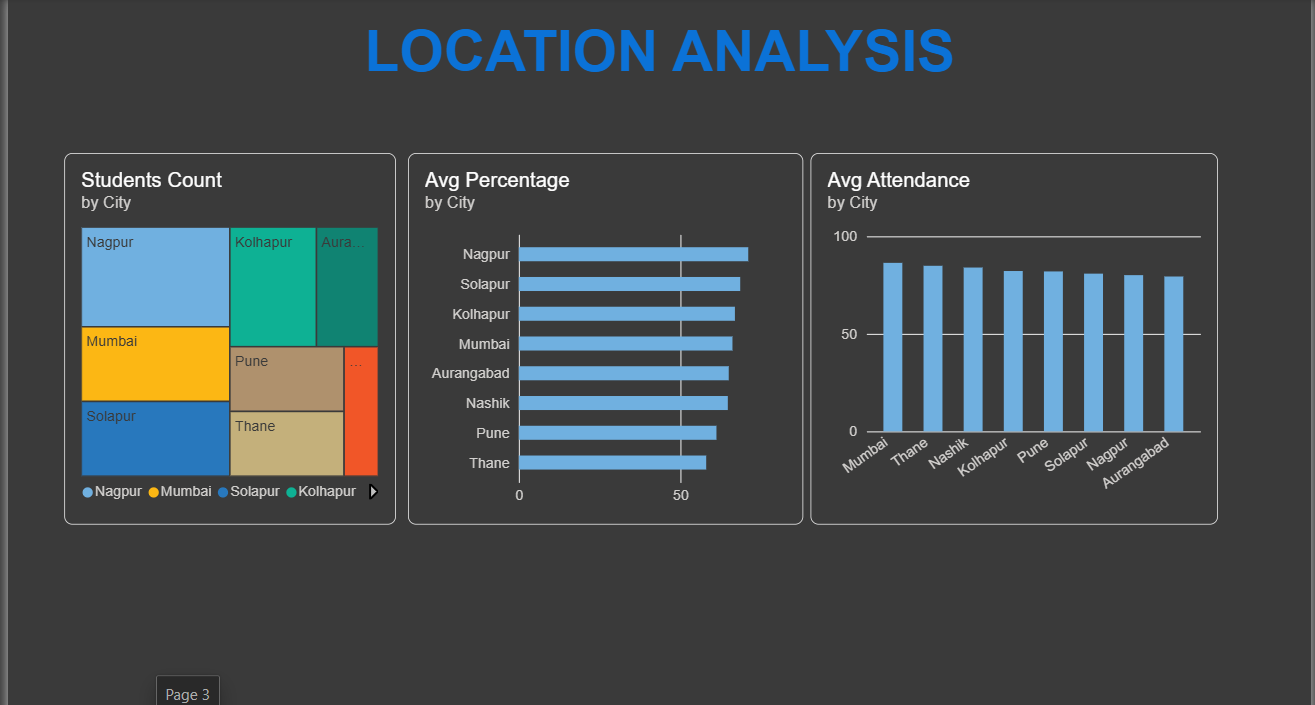

This screenshot's page, from the dashboard's own definition file:
{"tool":"powerbi","page":{"name":"Page 3","canvas":[1280,720],"ordinal":2},"visuals":[{"type":"textbox","box":[92.2,21.1,1095.6,75.6],"z":0},{"type":"treemap","fields":{"Group":["Students.City"],"Values":["Students.Students Count"]},"box":[55.6,152.2,325.6,364.4],"z":1000},{"type":"barChart","fields":{"Category":["Students.City"],"Y":["Students.Avg Percentage"]},"box":[392.2,152.2,387.8,364.4],"z":2000},{"type":"clusteredColumnChart","fields":{"Category":["Students.City"],"Y":["Students.Avg Attendance"]},"box":[787.8,152.2,400,364.4],"z":3000}]}

Visuals, with their boxes on the page's 1280x720 design canvas (x1, y1, x2, y2). These are canvas units, not pixel positions in the 1315x705 screenshot, which may show the page scaled, cropped or inside an application window:
textbox: [x1=92, y1=21, x2=1188, y2=97]
treemap - Students.City x Students.Students Count: [x1=56, y1=152, x2=381, y2=517]
barChart - Students.City x Students.Avg Percentage: [x1=392, y1=152, x2=780, y2=517]
clusteredColumnChart - Students.City x Students.Avg Attendance: [x1=788, y1=152, x2=1188, y2=517]
